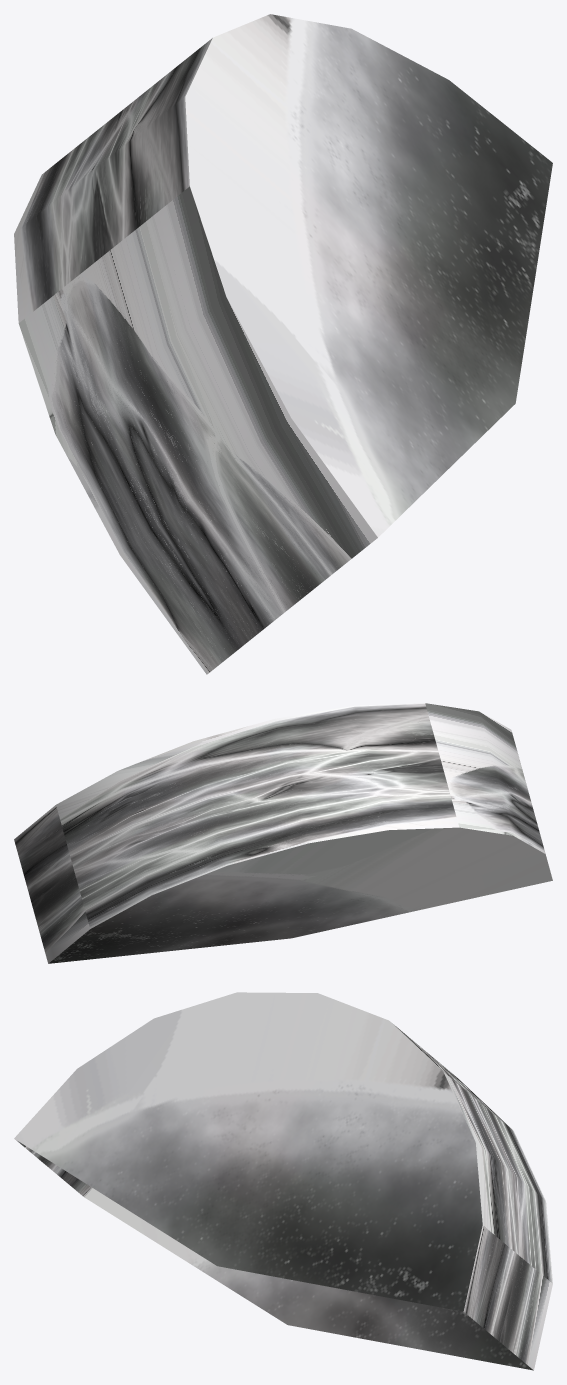
File: cylindre_calibr.fbx
The picture shows the model from 3 angles, top to bottom: view 1: azimuth 30°, elevation 25°; view 2: azimuth 150°, elevation 25°; view 3: azimuth 270°, elevation 25°; orthographic projection. The views are drawn at different scales.
Parts seen in each view (by area): view 1: Cylinder__1_; view 2: Cylinder__1_; view 3: Cylinder__1_.
Boxes of the visible parts, x1,y1,x2,y2 form: Cylinder__1_: (14, 14, 552, 674); Cylinder__1_: (14, 703, 552, 963); Cylinder__1_: (14, 992, 552, 1370).
Size of the model in its own units: 0.0615 by 0.0392 by 0.066.
